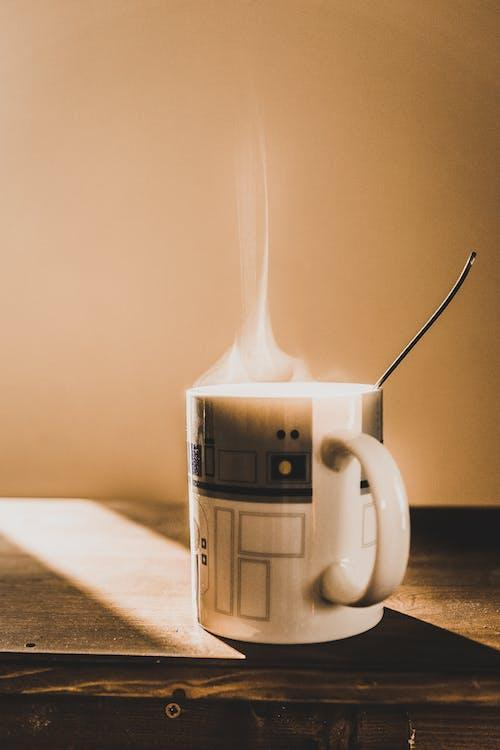Mug: (154, 322, 435, 661)
